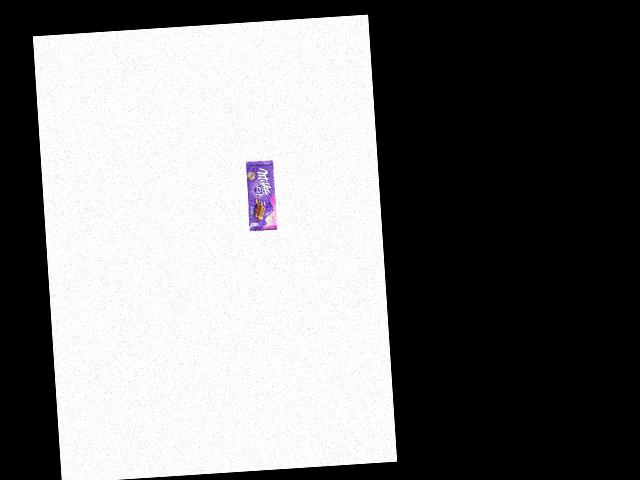chocolate: (244, 159, 277, 231)
